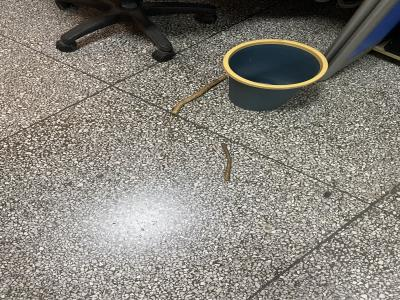Root: (171, 76, 228, 115), (221, 143, 232, 181)
